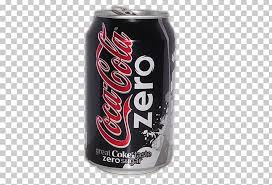can: (80, 4, 177, 178)
